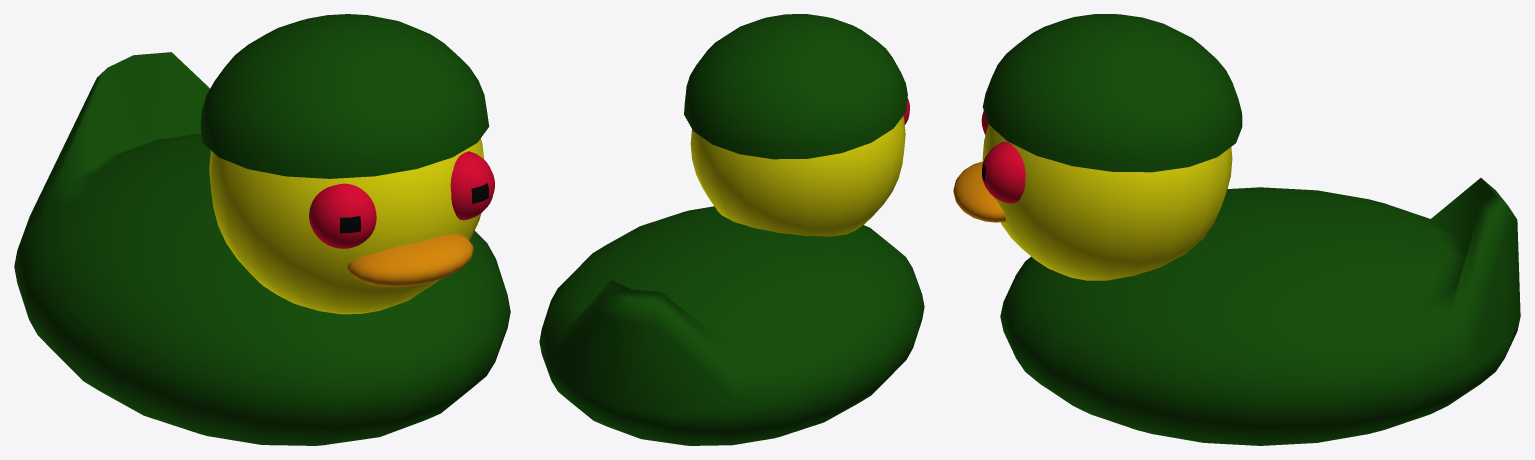
The model's file is RageDucky.fbx.
3 renders of one model, left to right at view 1: azimuth 30°, elevation 25°; view 2: azimuth 150°, elevation 25°; view 3: azimuth 270°, elevation 25°, orthographic. The views are drawn at different scales.
Visible parts, largest first — view 1: polySurface1; view 2: polySurface1; view 3: polySurface1.
Part boxes in pixels (x1=…): polySurface1: x1=14, y1=14, x2=510, y2=445; polySurface1: x1=539, y1=14, x2=924, y2=445; polySurface1: x1=953, y1=14, x2=1520, y2=445.
Bounding box in the file's own units: 1.41 × 1.43 × 1.92.
